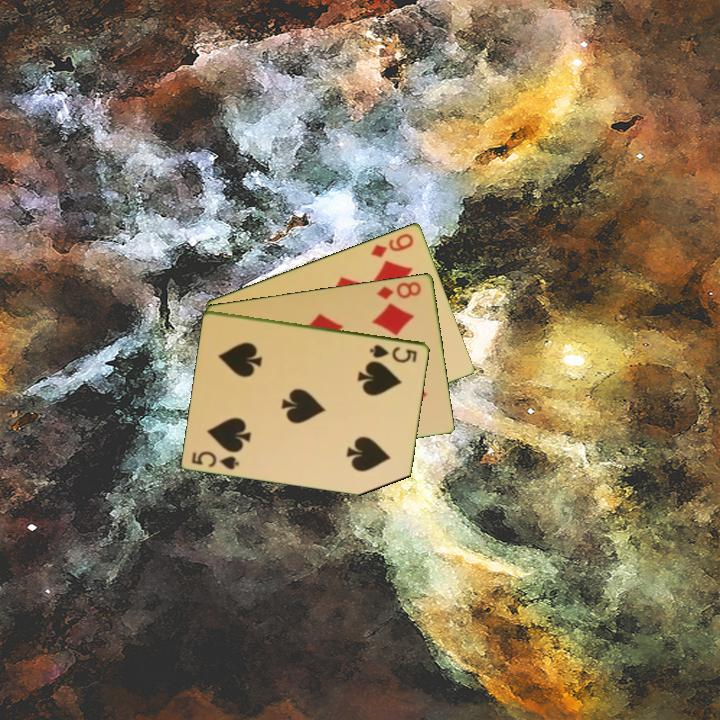5s: (188, 447, 242, 472), (366, 341, 420, 365)
8d: (373, 278, 424, 302)
9d: (367, 229, 417, 260)
